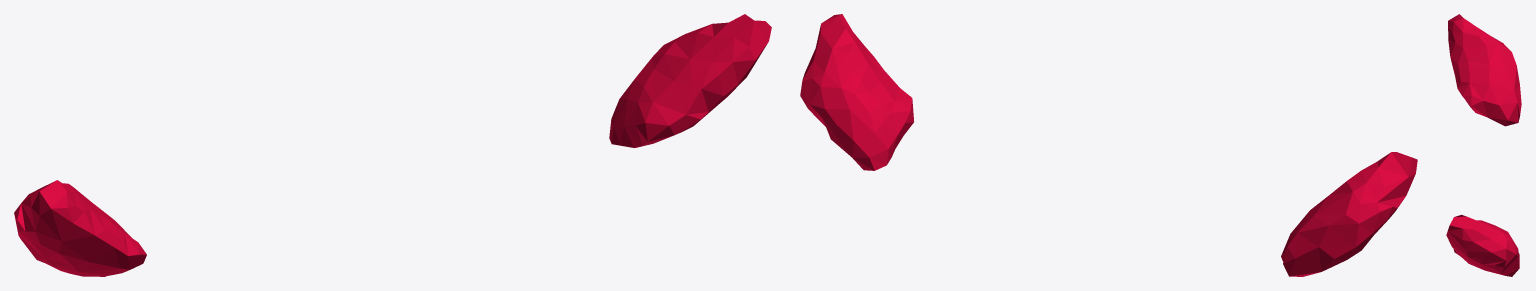
The model's file is 219-ELR-entorhinal cortex, lateral part, rostral division-('1.0000', '0.0000', '0.2667').obj.
3 renders of one model, left to right at view 1: azimuth 30°, elevation 25°; view 2: azimuth 150°, elevation 25°; view 3: azimuth 270°, elevation 25°, orthographic. The views are drawn at different scales.
Size of the model in its own units: 133 by 24.55 by 20.12.
